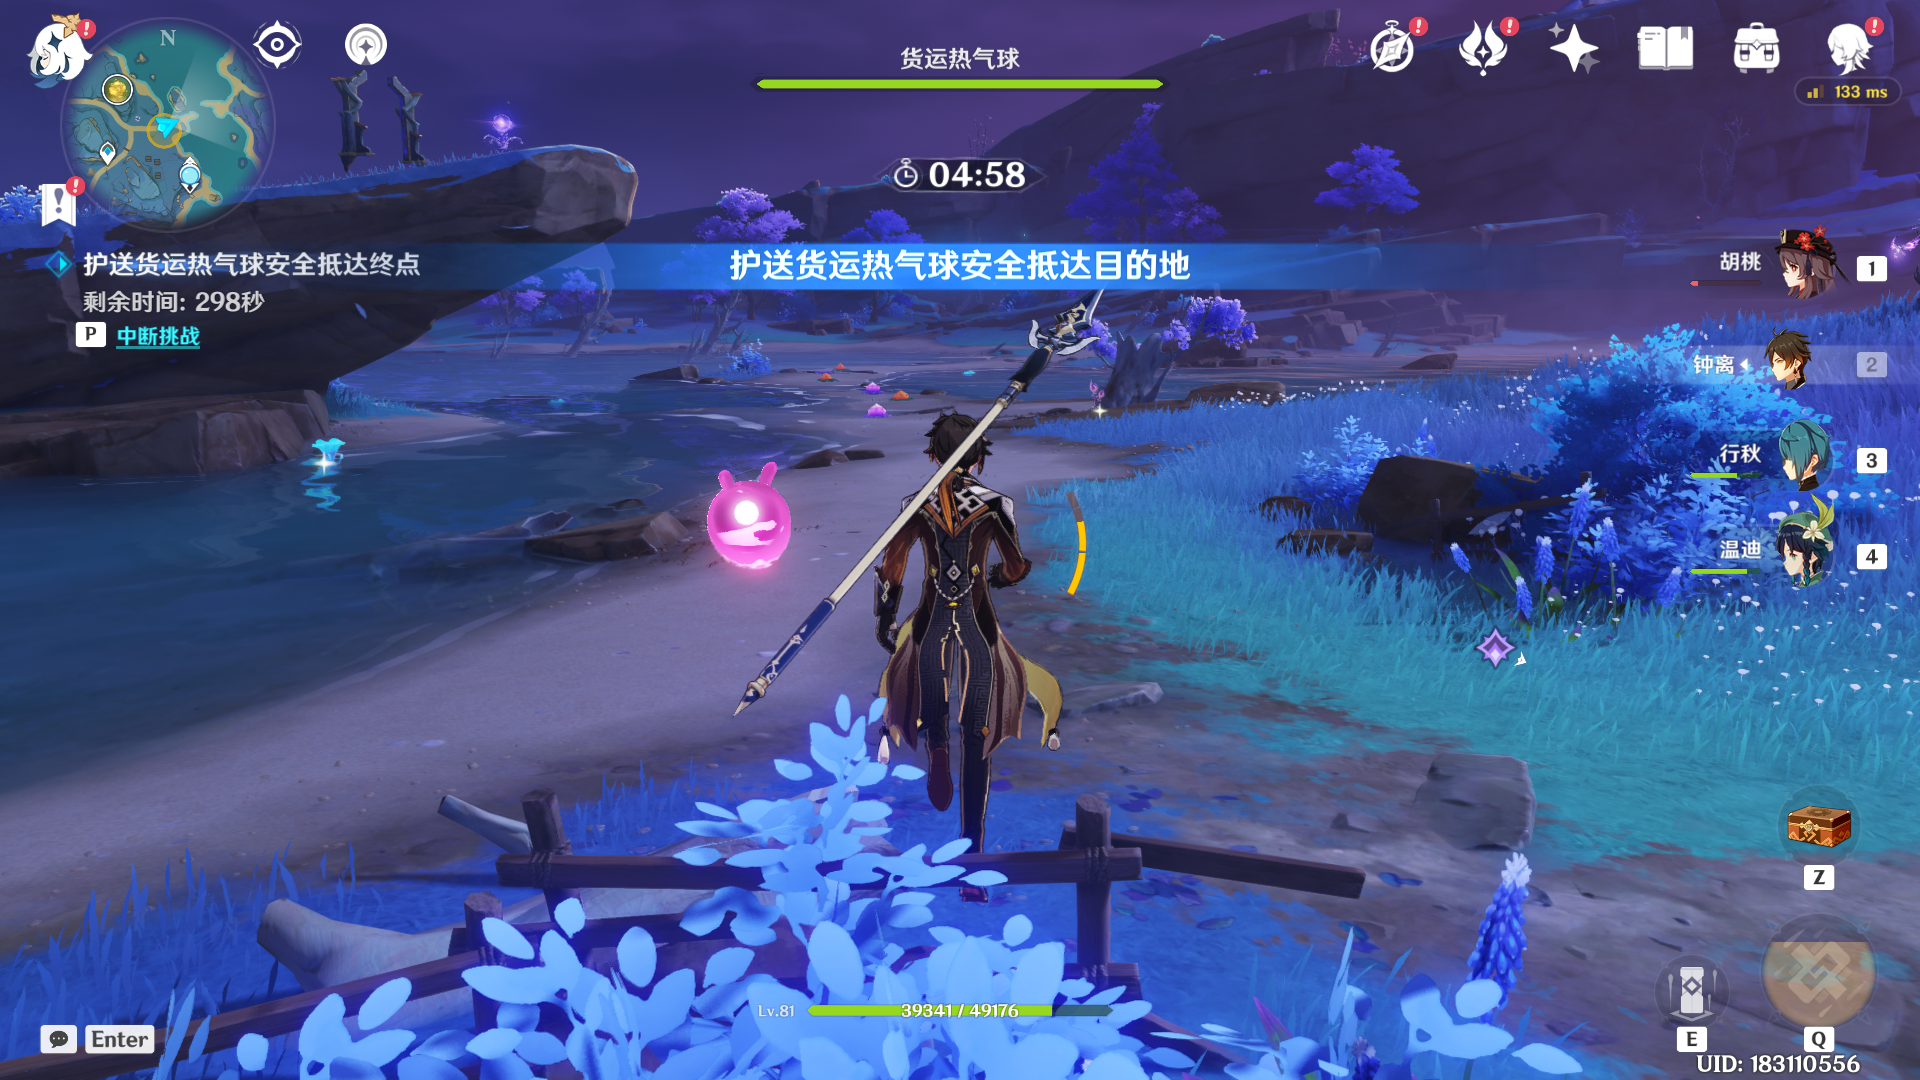character: (793, 375, 1137, 887)
